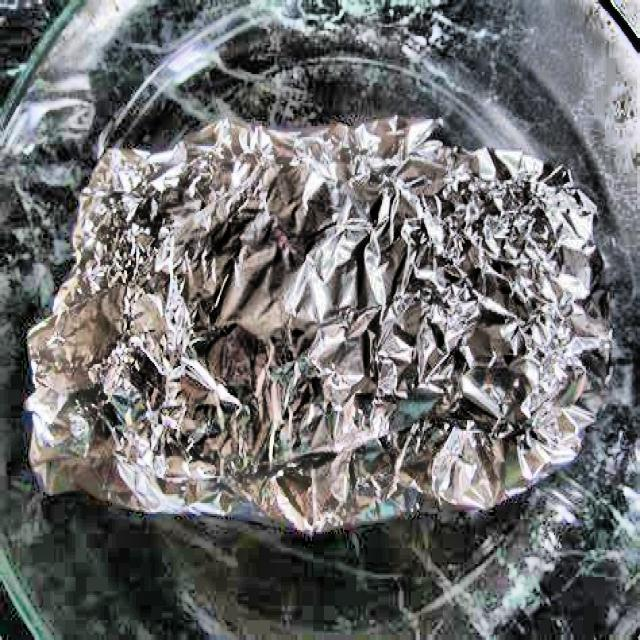Foil: (21, 126, 616, 535)
